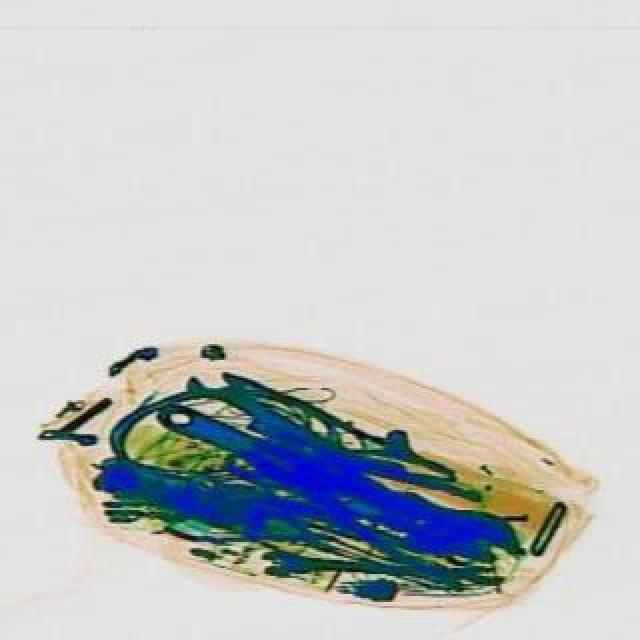scissors: (142, 382, 526, 582), (178, 352, 362, 480)
